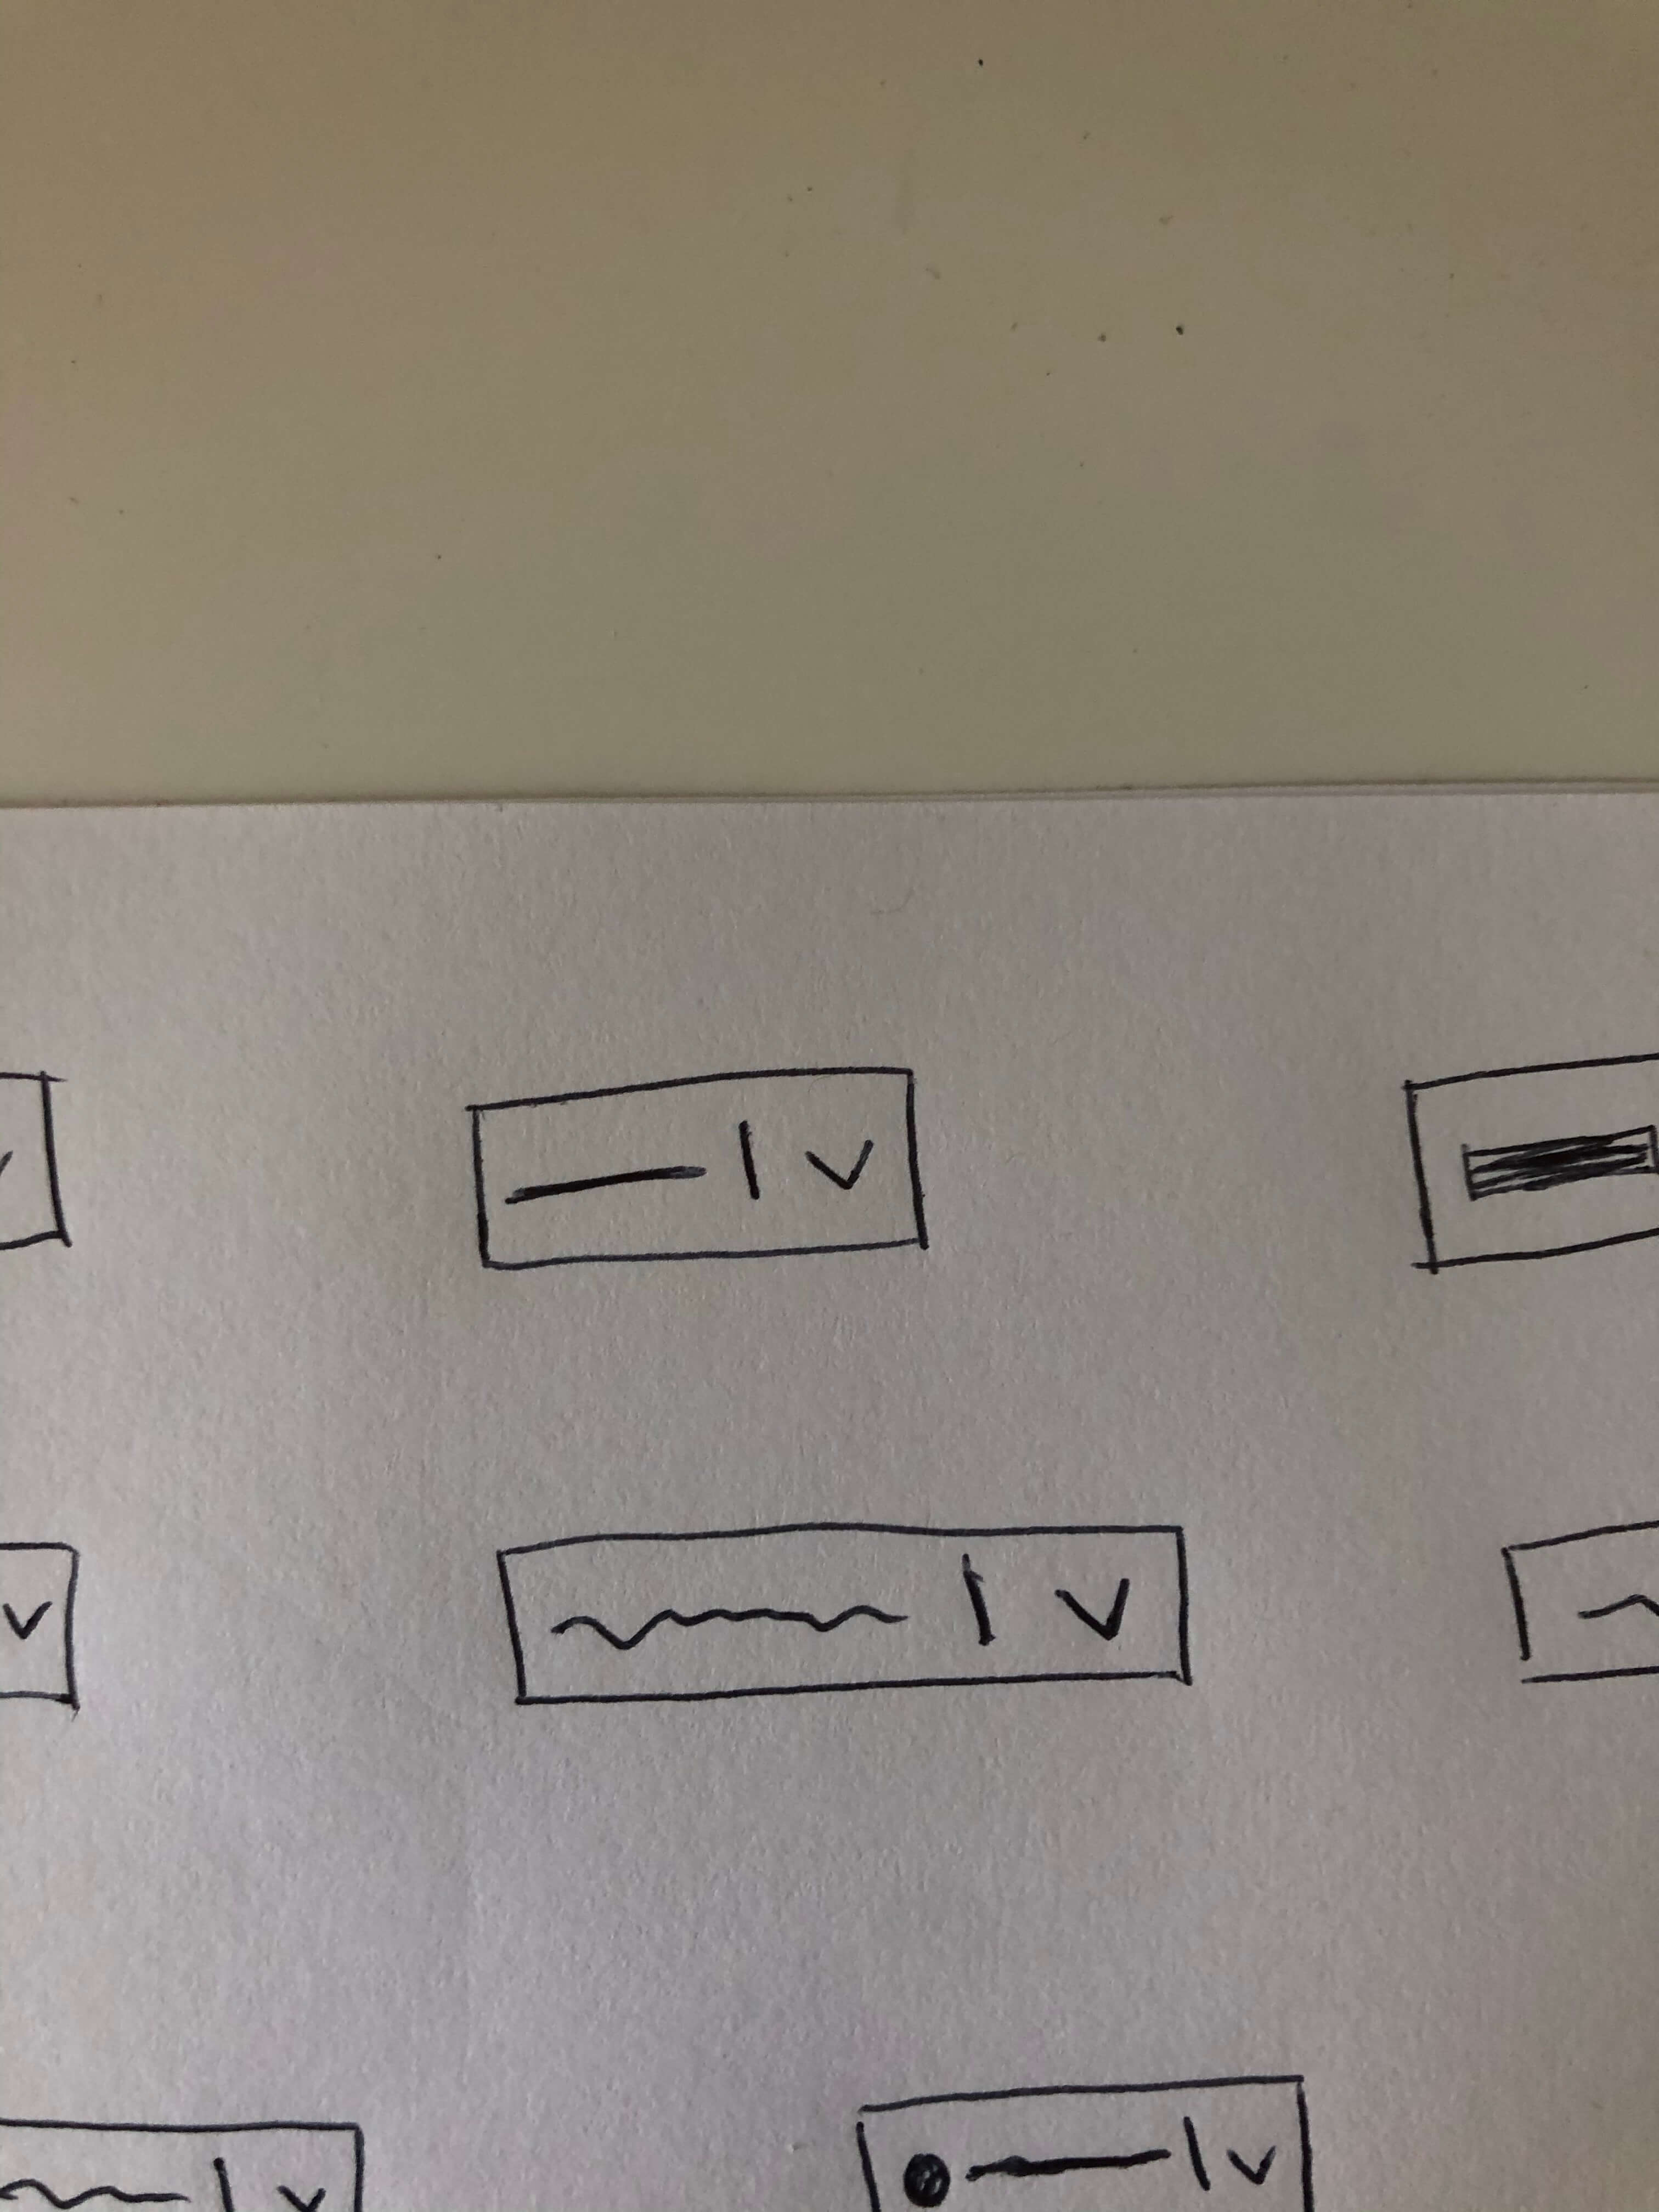split-button: (477, 1494, 1223, 1740), (455, 1057, 955, 1310)
